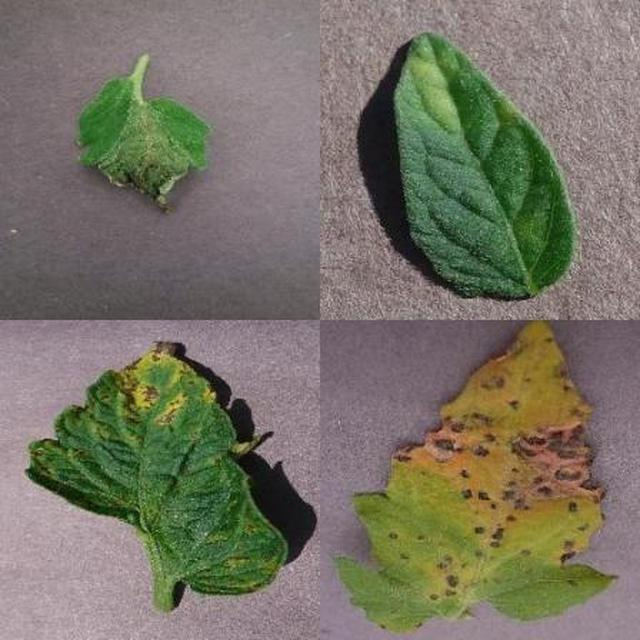Late Blight Leaf: (196, 199, 640, 640)
